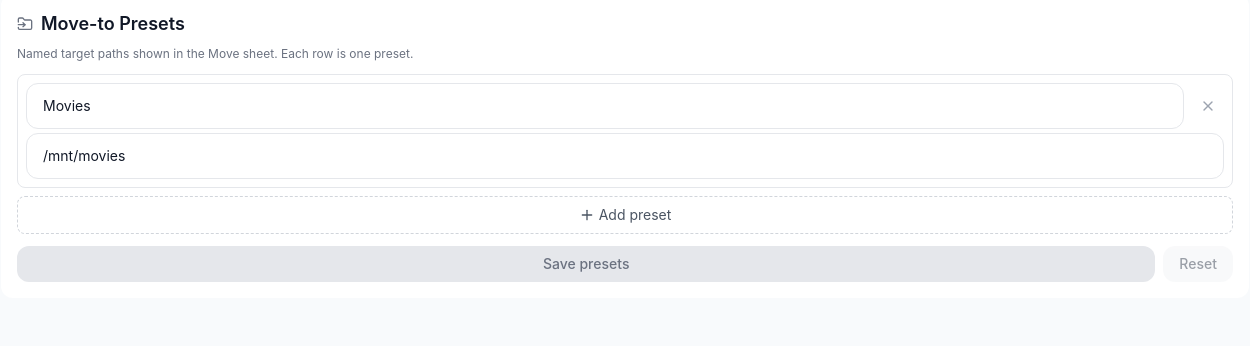
LocationPresetsCard › shows the server-provided error message when mutation rejects
The image size is (1250, 346).
Note: Make the form dirty so Save is enabled.
Type "X" into the field named "Preset name" at [605, 106], box [26,83,1184,129]
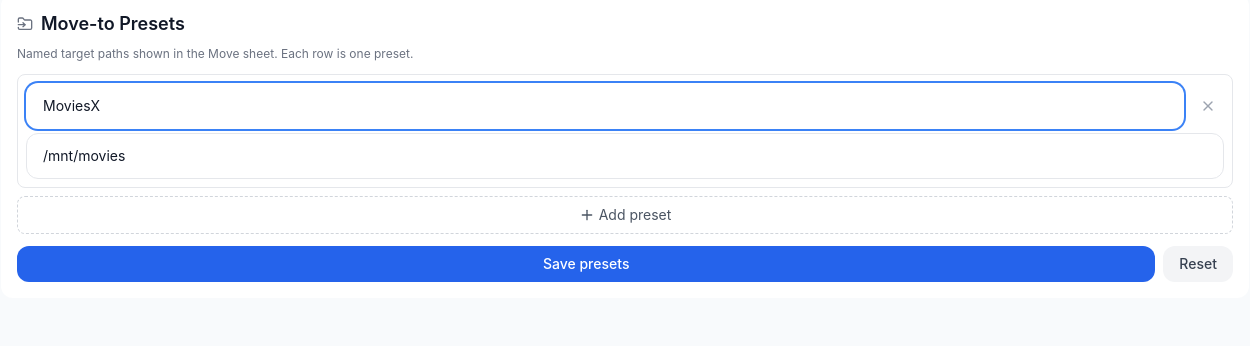
Click the button "Save presets" at [586, 264], box [17,246,1155,282]
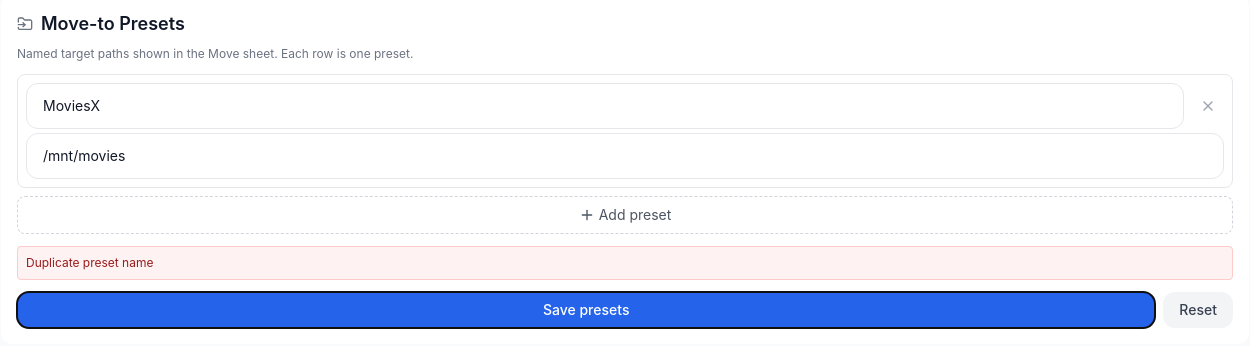
Now the text "Duplicate preset name" is shown, box [17,246,1233,280]
